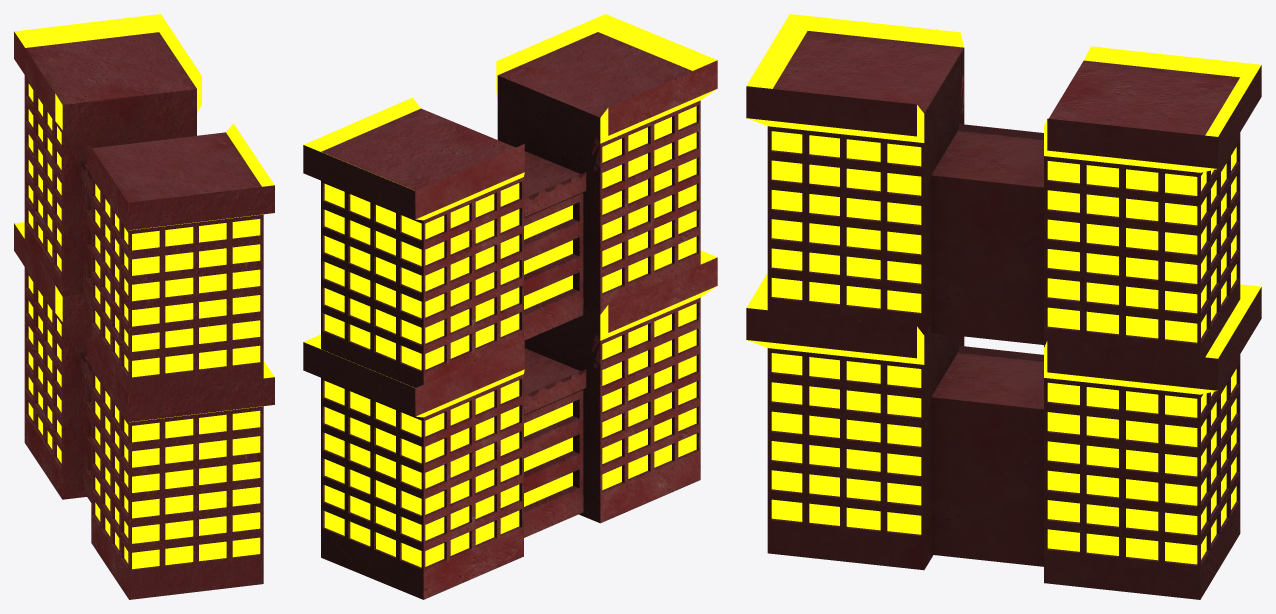
File: track1Building7.glb
3 views of the same model, side by side, from view 1: azimuth 30°, elevation 25°; view 2: azimuth 150°, elevation 25°; view 3: azimuth 270°, elevation 25° (orthographic). The views are drawn at different scales.
Visible parts, largest first — view 1: Cube.012; view 2: Cube.012; view 3: Cube.012.
Boxes of the visible parts, x1,y1,x2,y2 form: Cube.012: [14, 14, 274, 599]; Cube.012: [303, 14, 717, 599]; Cube.012: [746, 14, 1261, 599].
Size of the model in its own units: 2.88 by 5.11 by 5.1.
Materials: 2 (1 with a texture image).
